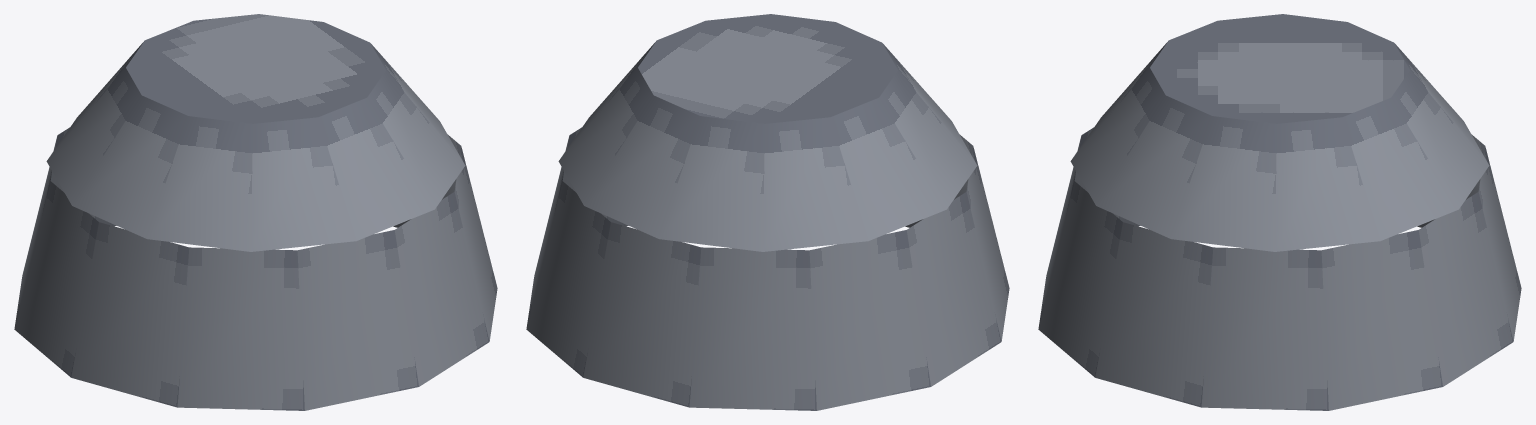
Rendered from rock_5.glb.
3 renders of one model, left to right at view 1: azimuth 30°, elevation 25°; view 2: azimuth 150°, elevation 25°; view 3: azimuth 270°, elevation 25°, orthographic.
Parts seen in each view (by area): view 1: rock_6; view 2: rock_6; view 3: rock_6.
Part boxes in pixels (x1,y1,x2,y2): rock_6: (14, 14, 497, 410); rock_6: (526, 14, 1009, 410); rock_6: (1038, 14, 1521, 410).
Size of the model in its own units: 0.7323 by 0.4012 by 0.7323.
Materials: 1 (1 with a texture image).
